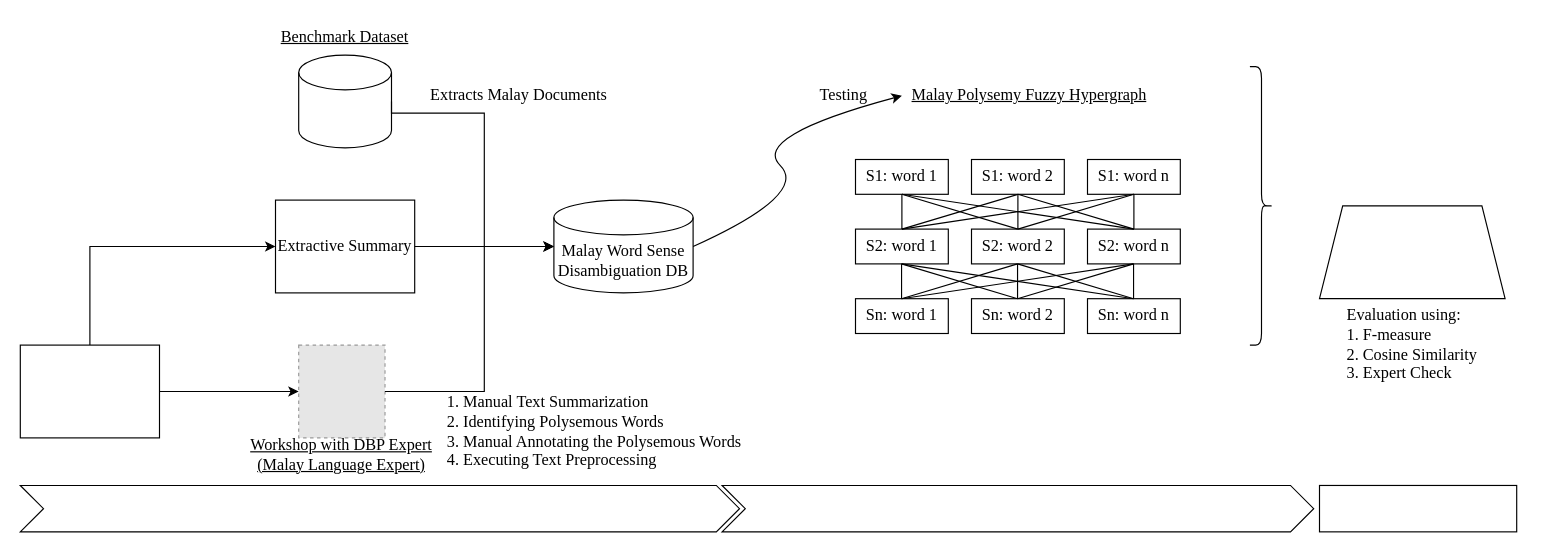
Image size: 1560x552. Some labels were removed from this diagram. Grey dashed boxes stand in for pictures. Each missing label, with the centre of its shape:
"Articles" goes at point (89, 391).
"DBP Corpus DB" goes at point (345, 101).
"Evaluation & Report Findings" goes at point (1411, 252).
"Phase 1: Resource Preparation and Text Processing" goes at point (379, 508).
"Phase 2: Formulation and Development of Malay Polysemy Fuzzy Hypergraph" goes at point (1017, 508).
"Phase 3: Evaluation" goes at point (1417, 508).
